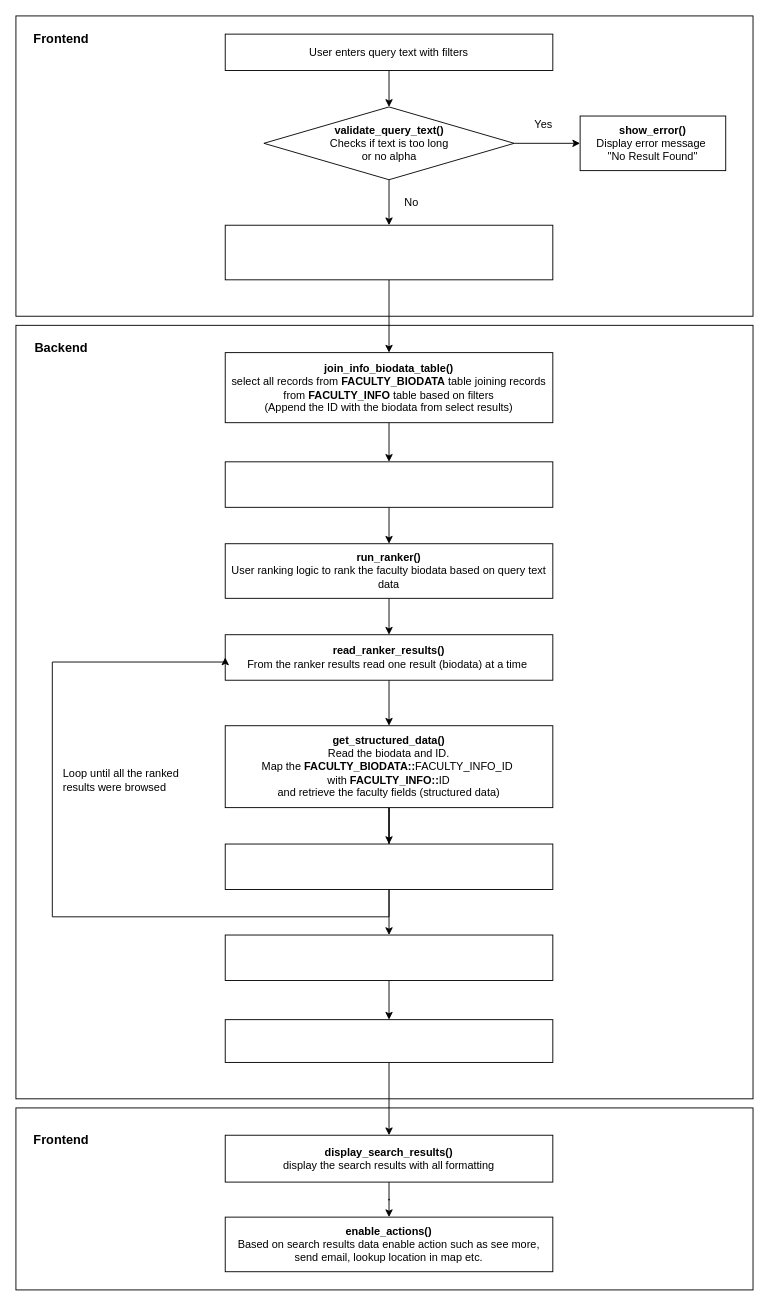
Some shapes in this 769 by 1306 pixel diagram are drawn without their labels. Here are the shapes that lost their labels. From the top down, the box of each, then its label:
(224, 224, 553, 280): get_data() call the backend service pass the query text to fetch search results
(224, 461, 553, 507): write_to_file() write the biodata (with appended ID) in a temp text file
(224, 843, 553, 890): append_structured_data() append the result row in a list of dictionaries
(224, 934, 553, 981): do_cleanup() do any cleanup including deleting any temp files
(224, 1019, 553, 1062): send_data() respond back to the front end with the result data
